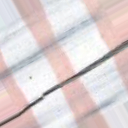crackTip: (1, 37, 128, 126)
